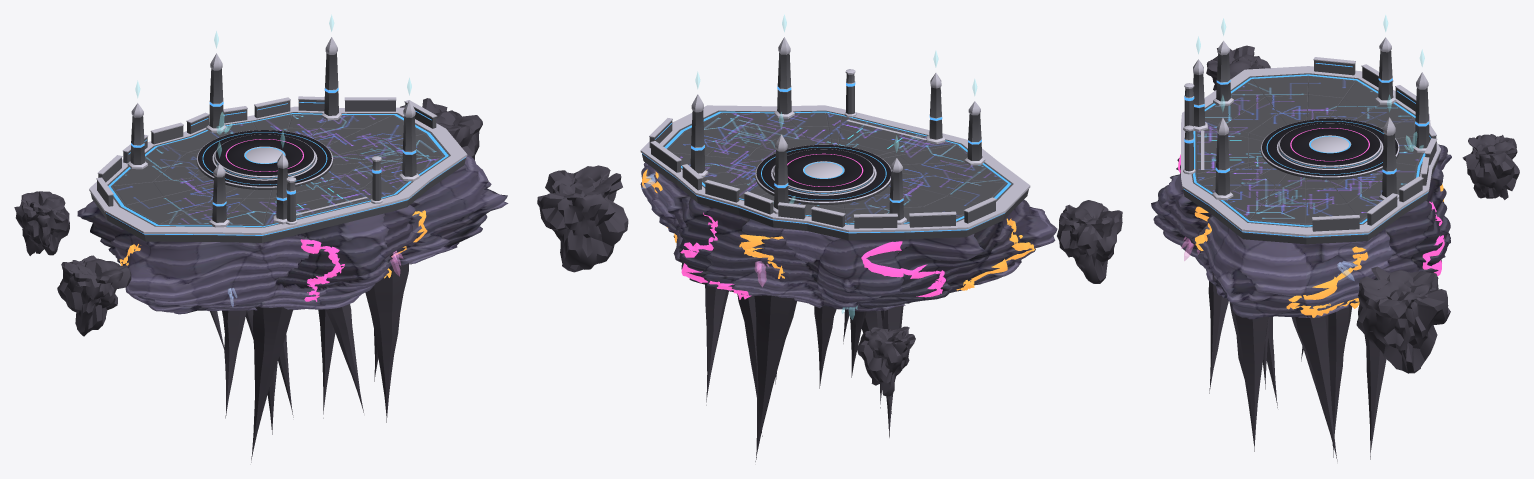
The model's file is Island_03_quest.glb.
3 views of the same model, side by side, from view 1: azimuth 30°, elevation 25°; view 2: azimuth 150°, elevation 25°; view 3: azimuth 270°, elevation 25° (orthographic).
Visible parts, largest first — view 1: Island_03_Deck, Island_03_Rock, Island_03_Architecture, Island_03_Spires, Island_03, Island_03_Plaza, Island_03_Veins; view 2: Island_03_Deck, Island_03_Rock, Island_03, Island_03_Architecture, Island_03_Spires, Island_03_Plaza, Island_03_Veins; view 3: Island_03_Deck, Island_03_Rock, Island_03, Island_03_Architecture, Island_03_Spires, Island_03_Plaza, Island_03_Veins.
Boxes of the visible parts, x1=… form: Island_03_Deck: x1=89, y1=106, x2=467, y2=242; Island_03_Rock: x1=77, y1=154, x2=508, y2=314; Island_03_Architecture: x1=96, y1=15, x2=437, y2=227; Island_03_Spires: x1=210, y1=263, x2=408, y2=462; Island_03: x1=14, y1=98, x2=482, y2=336; Island_03_Plaza: x1=196, y1=130, x2=332, y2=189; Island_03_Veins: x1=119, y1=210, x2=427, y2=301; Island_03_Deck: x1=640, y1=105, x2=1030, y2=240; Island_03_Rock: x1=640, y1=128, x2=1057, y2=311; Island_03: x1=537, y1=165, x2=1122, y2=396; Island_03_Architecture: x1=649, y1=15, x2=996, y2=228; Island_03_Spires: x1=705, y1=284, x2=903, y2=461; Island_03_Plaza: x1=755, y1=144, x2=891, y2=205; Island_03_Veins: x1=642, y1=169, x2=1035, y2=299; Island_03_Deck: x1=1181, y1=66, x2=1440, y2=244; Island_03_Rock: x1=1151, y1=144, x2=1451, y2=319; Island_03: x1=1181, y1=45, x2=1519, y2=373; Island_03_Architecture: x1=1183, y1=15, x2=1437, y2=231; Island_03_Spires: x1=1208, y1=281, x2=1386, y2=461; Island_03_Plaza: x1=1260, y1=118, x2=1399, y2=179; Island_03_Veins: x1=1178, y1=154, x2=1444, y2=317.
Size of the model in its own units: 38.7 by 29.01 by 24.64.
Materials: 13 (1 with a texture image).
